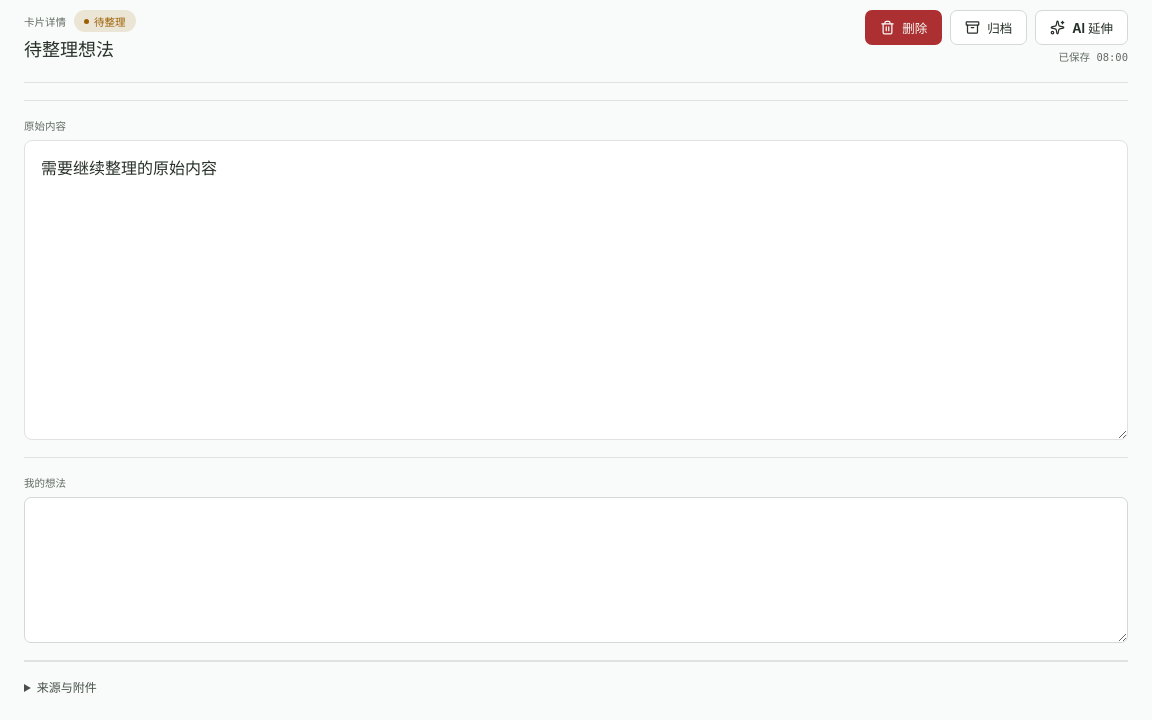
Test: CardDetail › shows a legacy web source as document without offering web article
(page scrolled)
Step 1. Click the heading "来源与附件" → [67, 687], box [37,680,97,695]
(page scrolled)
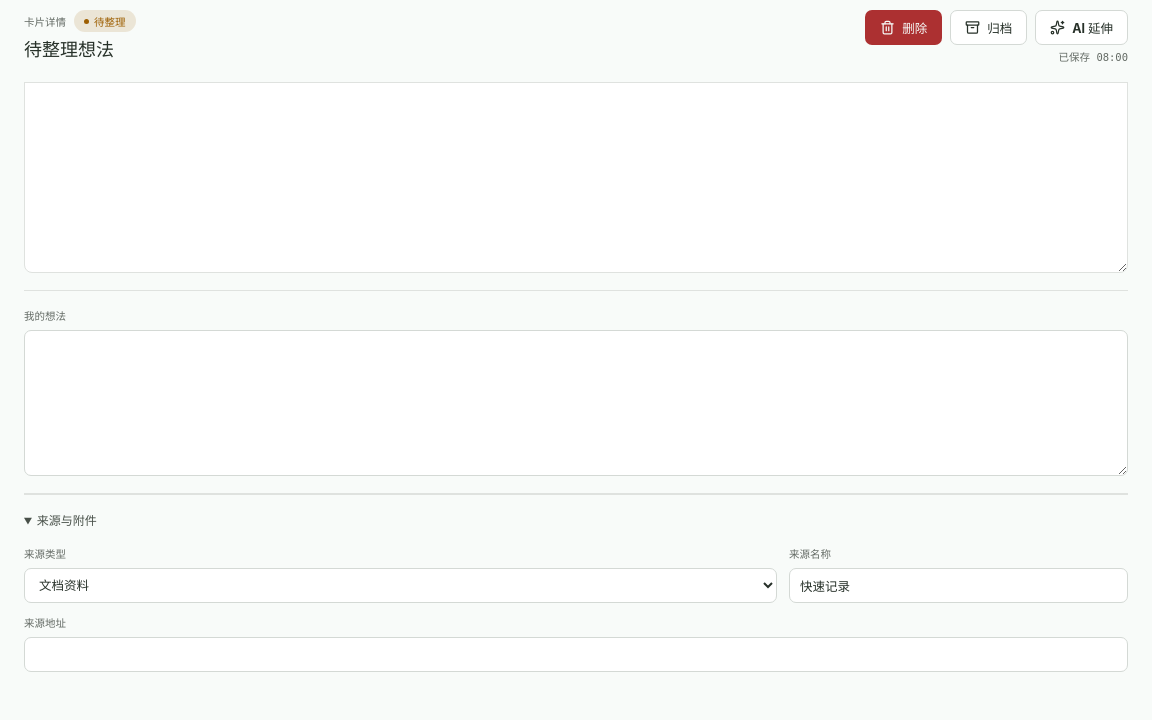
Expected: the dropdown labelled "来源类型" shows "文档资料", [24,568,777,603]
